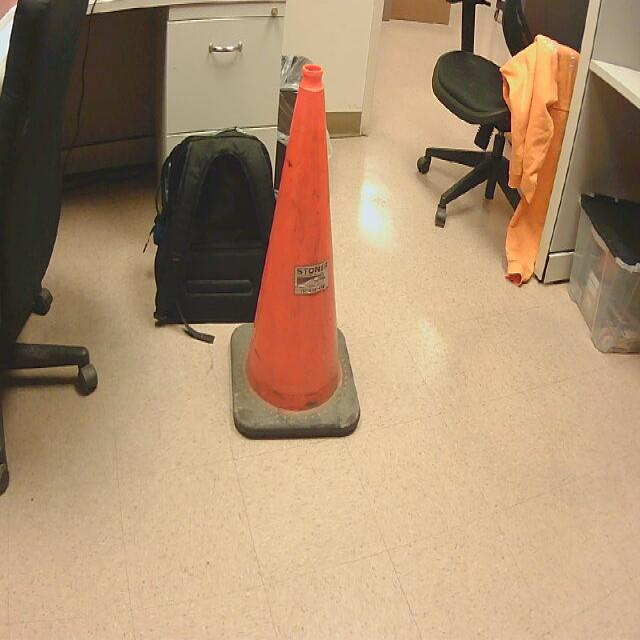traffic cone: (231, 64, 362, 442)
